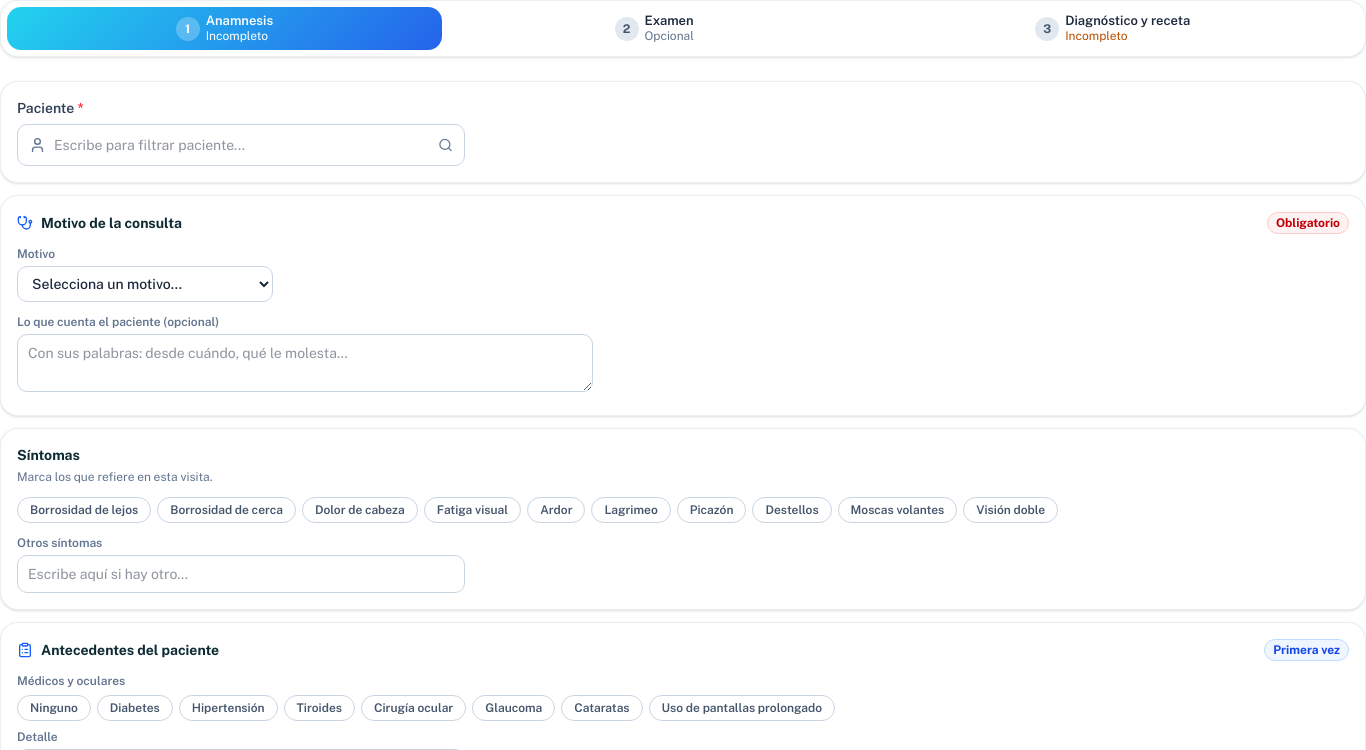
Test: ConsultaMedica — los tres pasos › las categorías de diagnóstico son las del catálogo de la óptica
Type "Paciente De" into the field labelled "Paciente *". click: coordinates (241, 145)
box: [17,124,465,166]
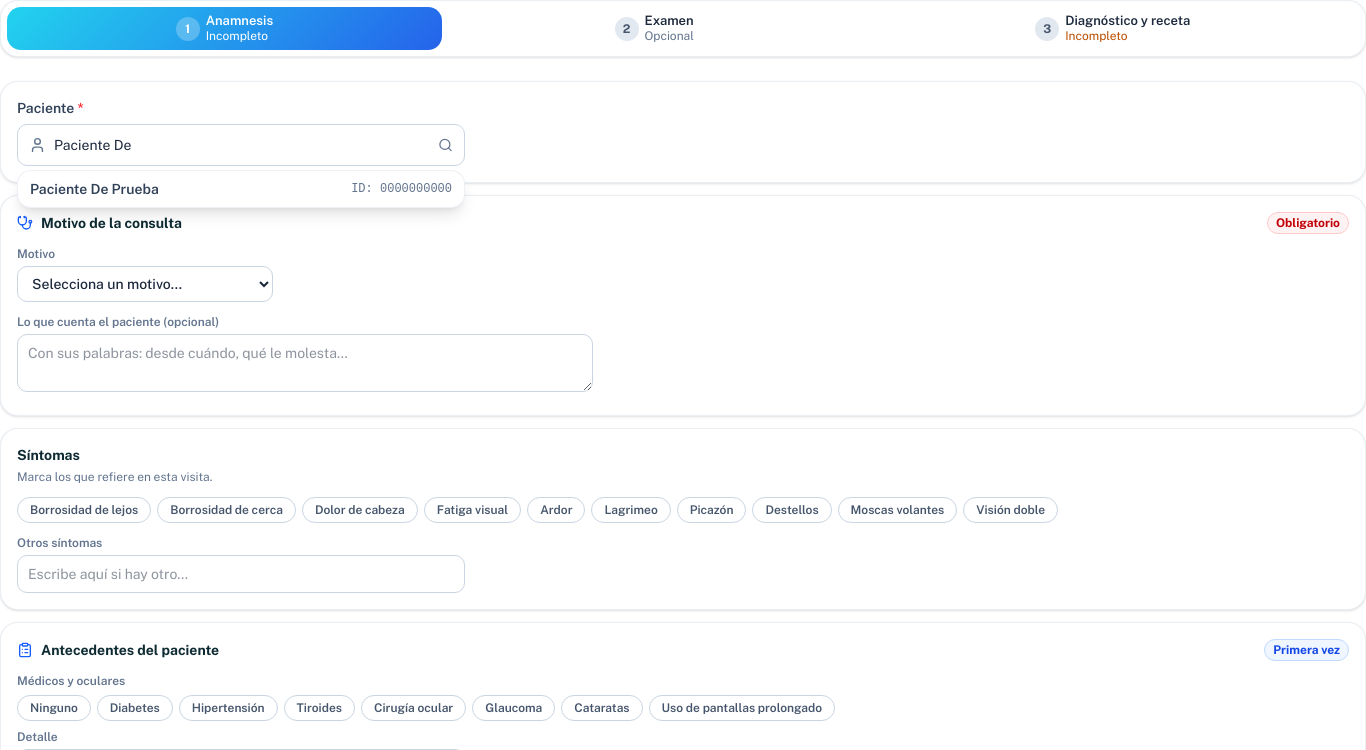
Click the text "Paciente De Prueba". click: coordinates (94, 189)
box: [30,179,159,199]
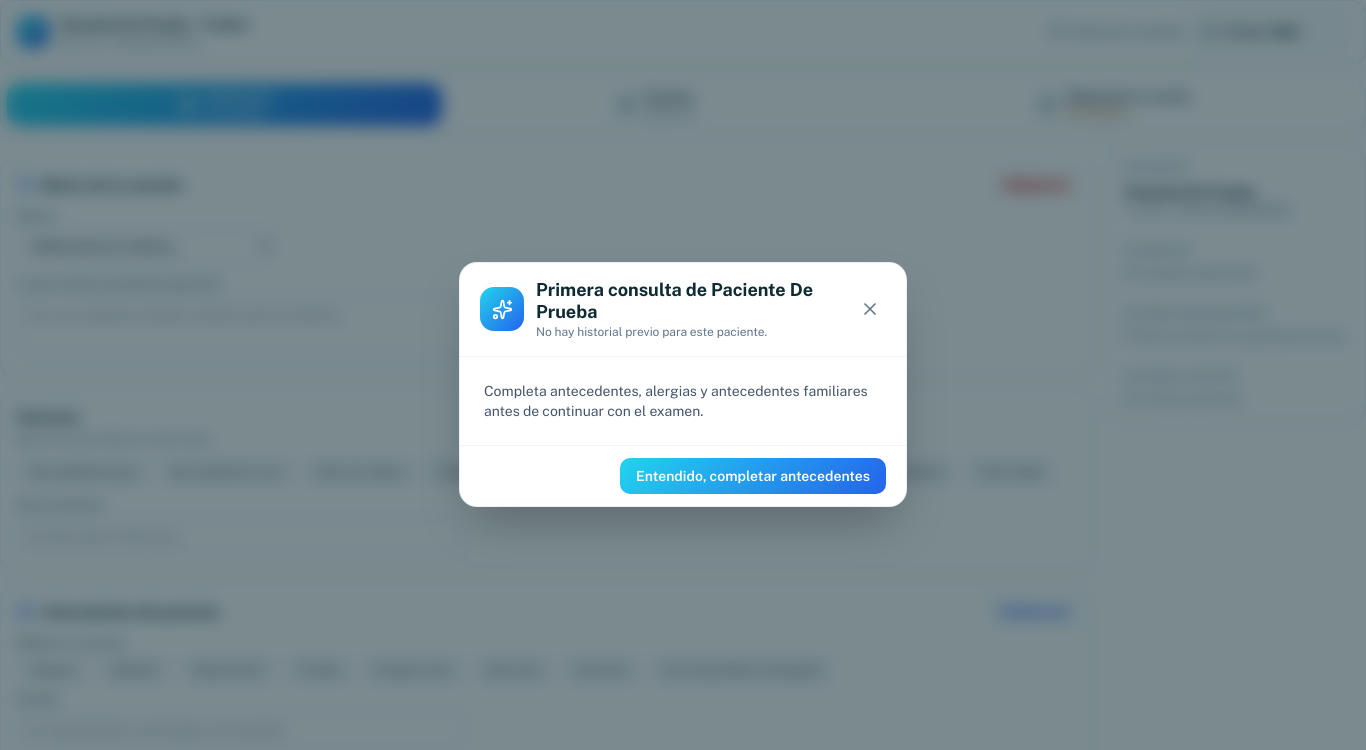
Click the button "Entendido, completar antecedentes". click: coordinates (753, 476)
box: [620,458,886,494]
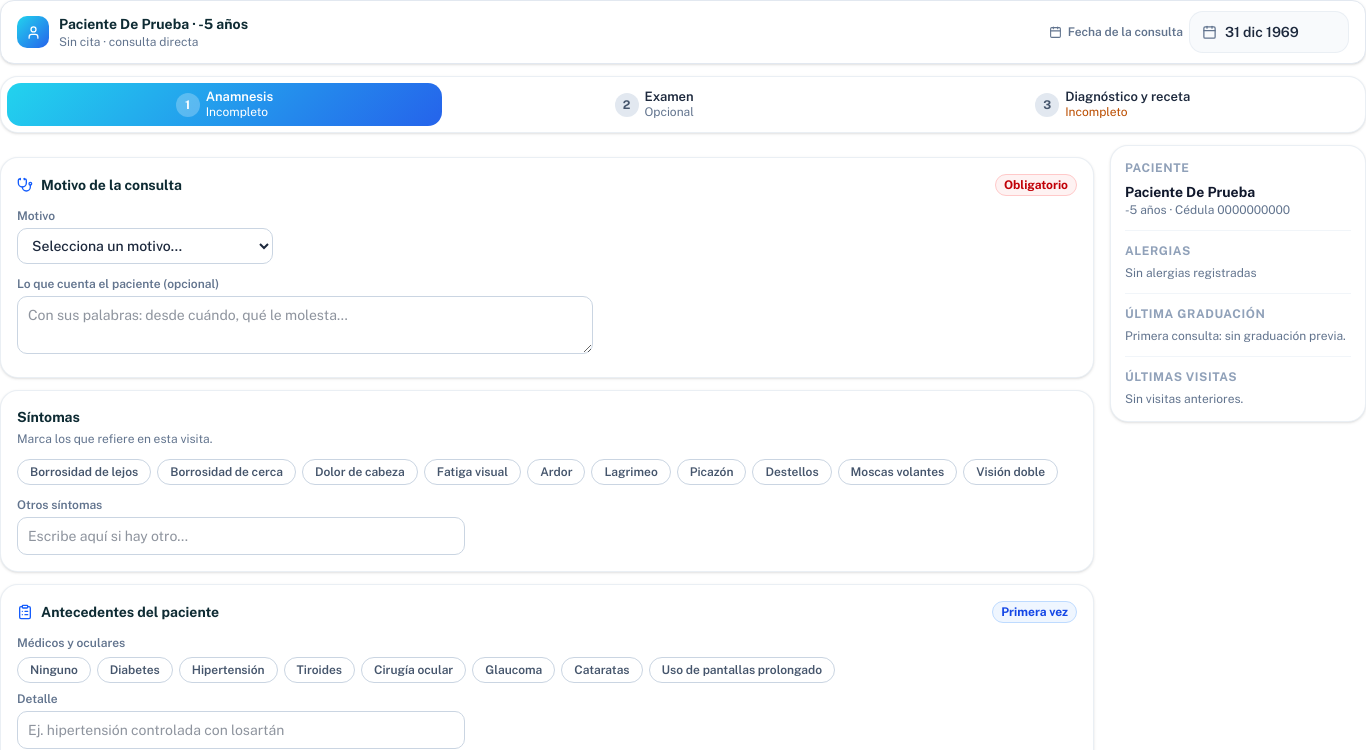
Select "Consulta General" in the dropdown labelled "Motivo". click: coordinates (145, 246)
box: [17,228,273,264]
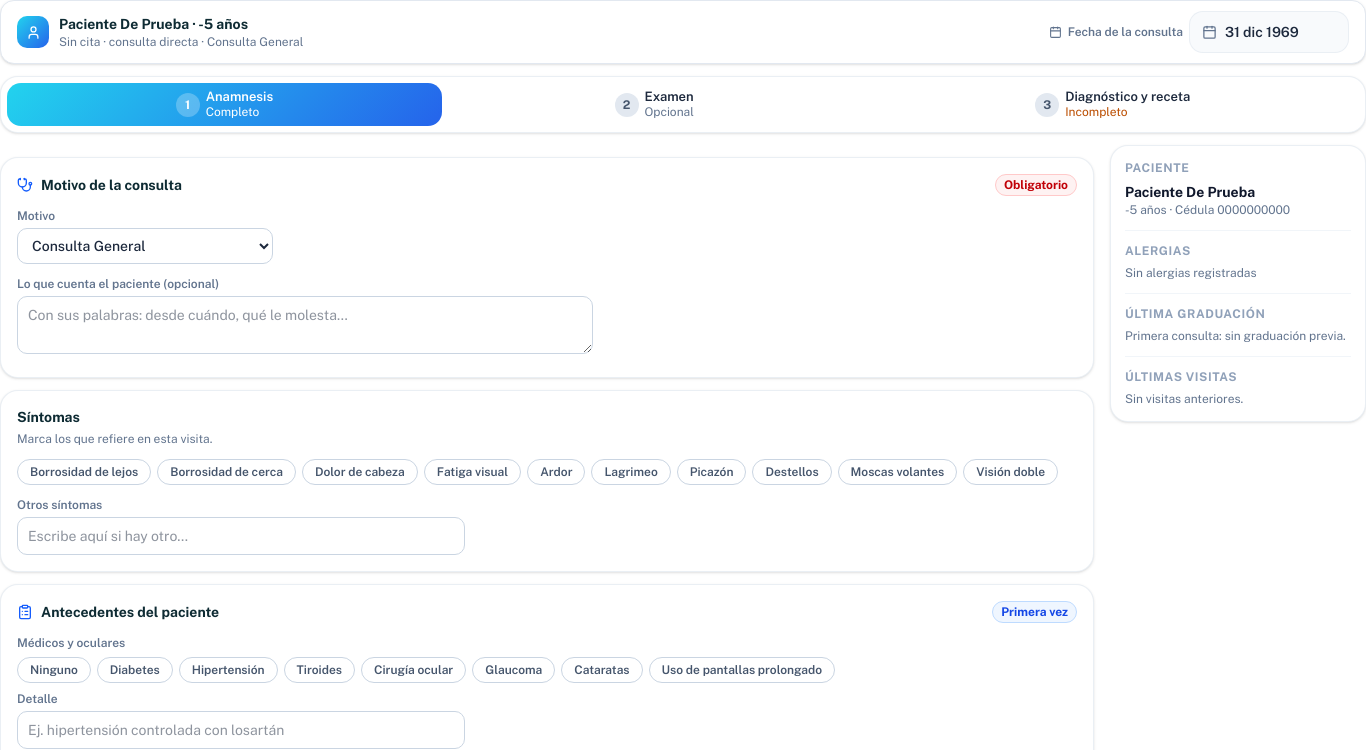
Click the button with aria-label "Paso 3: Diagnóstico y receta". click: coordinates (1113, 105)
box: [866,83,1359,126]
(page scrolled)
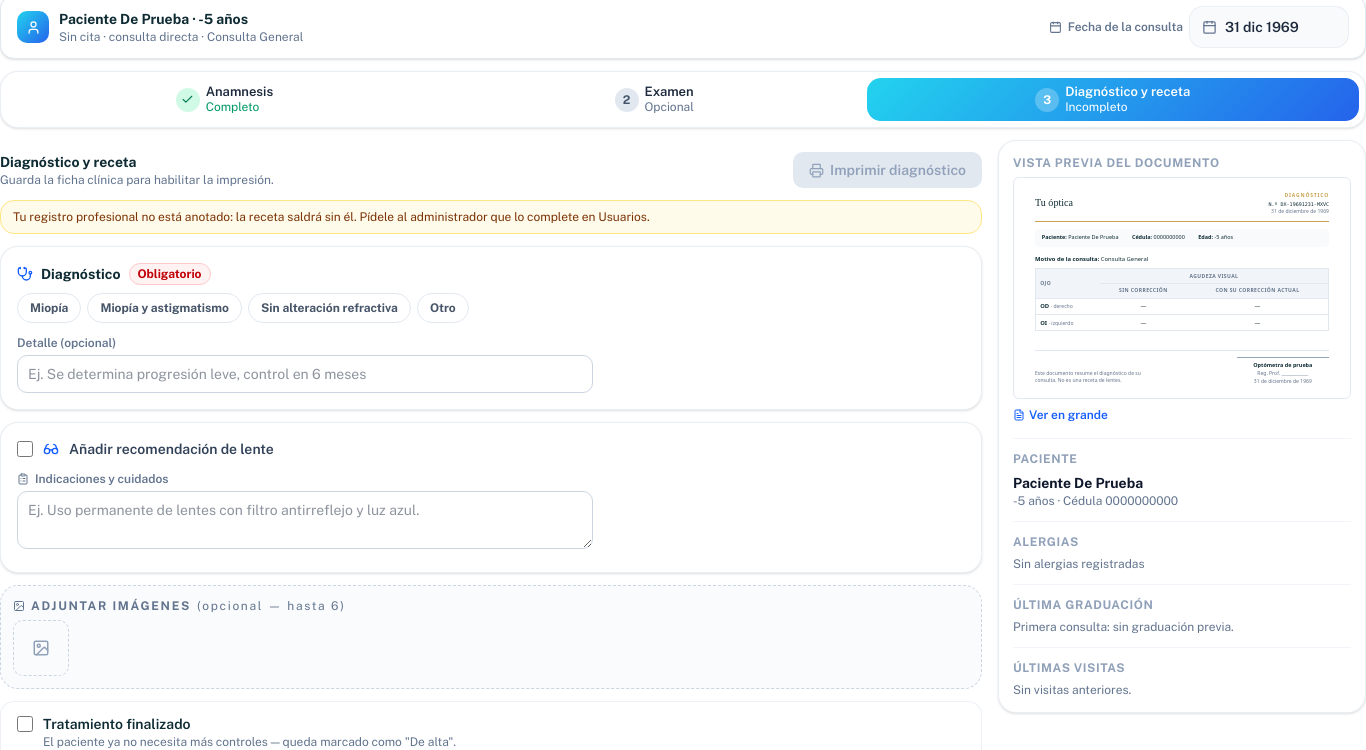
Now the button "Miopía" is shown, box [17,293,81,323]
Now the button "Miopía y astigmatismo" is shown, box [87,293,242,323]
Now the button "Sin alteración refractiva" is shown, box [248,293,411,323]
